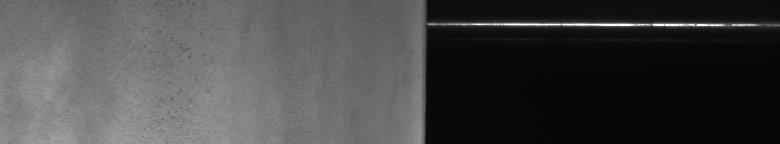ib: (138, 27, 192, 124)
